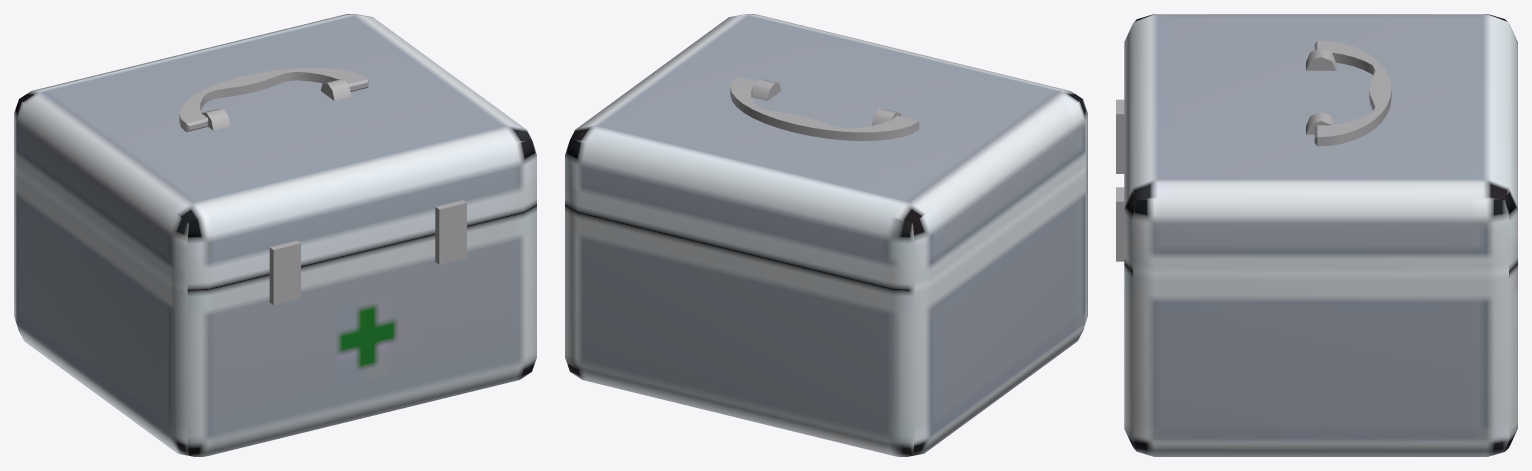
The model's file is 186_MedicalBox.fbx.
The picture shows the model from 3 angles, left to right: view 1: azimuth 30°, elevation 25°; view 2: azimuth 150°, elevation 25°; view 3: azimuth 270°, elevation 25°; orthographic projection. The views are drawn at different scales.
Parts seen in each view (by area): view 1: LOD_1_Group_0_Sub_1__sm30_186_MedicalBox01A_A_Mat; view 2: LOD_1_Group_0_Sub_1__sm30_186_MedicalBox01A_A_Mat; view 3: LOD_1_Group_0_Sub_1__sm30_186_MedicalBox01A_A_Mat.
Part boxes in pixels (x1,y1,x2,y2): LOD_1_Group_0_Sub_1__sm30_186_MedicalBox01A_A_Mat: (14, 14, 536, 456); LOD_1_Group_0_Sub_1__sm30_186_MedicalBox01A_A_Mat: (565, 14, 1087, 456); LOD_1_Group_0_Sub_1__sm30_186_MedicalBox01A_A_Mat: (1116, 14, 1517, 456).
Bounding box in the file's own units: 0.3 × 0.21 × 0.2654.
